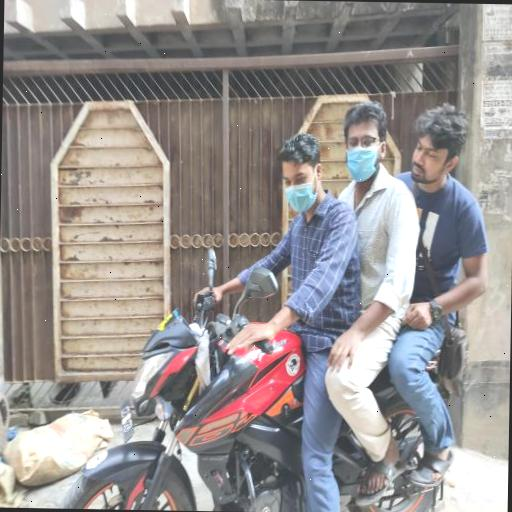no helmet: (258, 119, 338, 224)
triple riding: (67, 84, 512, 512)
